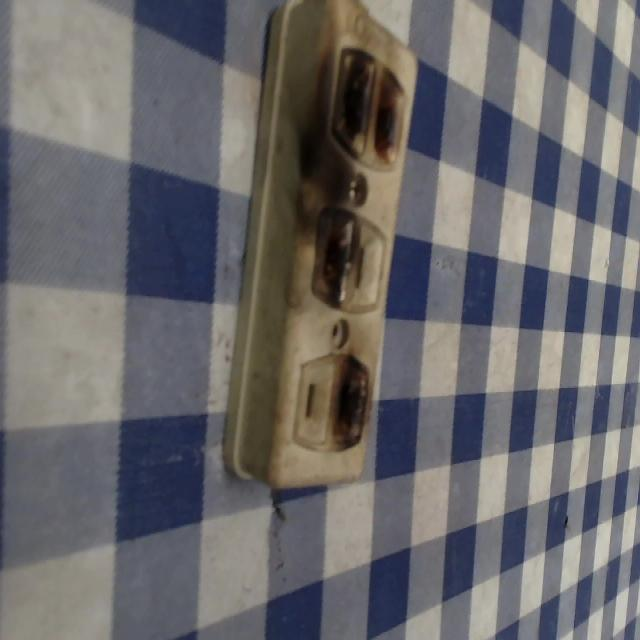-: (326, 39, 408, 172), (311, 203, 358, 305), (331, 348, 373, 452)
